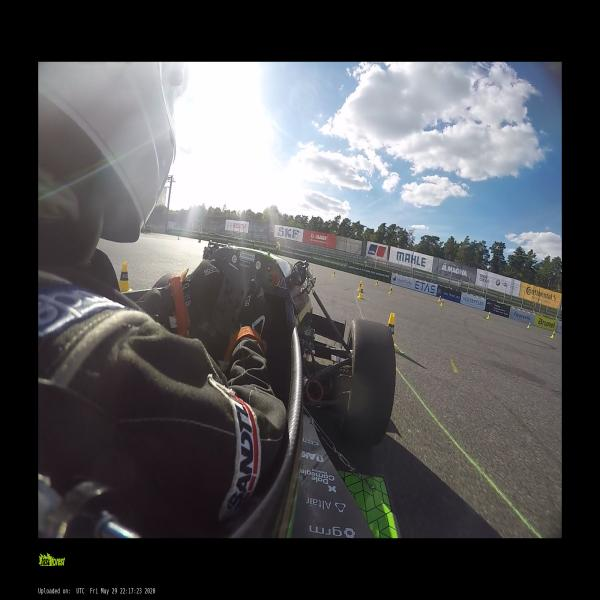yellow_cone: (119, 264, 132, 292), (387, 313, 394, 333), (357, 286, 364, 298), (357, 281, 362, 291), (486, 312, 491, 320), (388, 287, 393, 294), (550, 332, 555, 338), (440, 299, 444, 306), (437, 296, 442, 301), (527, 322, 531, 328), (332, 271, 336, 276), (375, 280, 378, 286), (177, 236, 180, 240)
